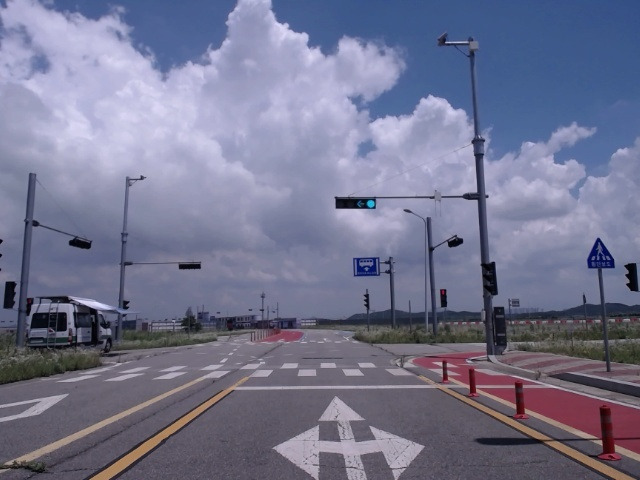all_green_4: (332, 197, 376, 209)
